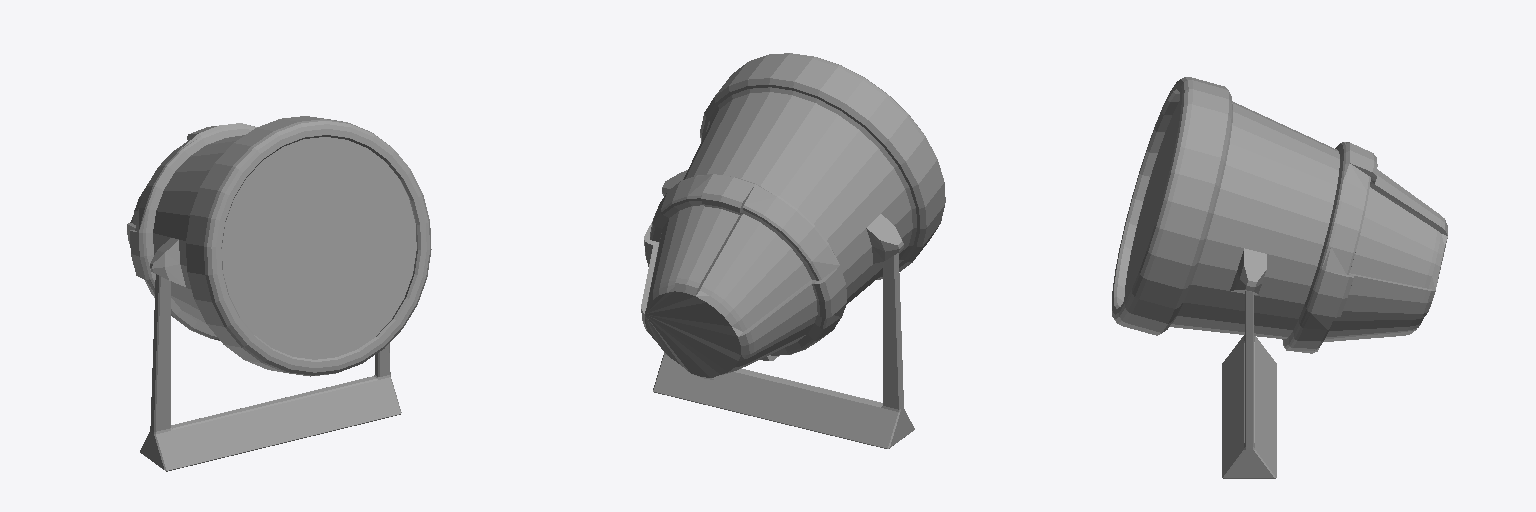
Rendered from stage_light.obj.
3 renders of one model, left to right at view 1: azimuth 30°, elevation 25°; view 2: azimuth 150°, elevation 25°; view 3: azimuth 270°, elevation 25°, orthographic.
Parts seen in each view (by area): view 1: stage_light_Untitled; view 2: stage_light_Untitled; view 3: stage_light_Untitled.
Part boxes in pixels (x1,y1,x2,y2): stage_light_Untitled: (127, 116, 431, 471); stage_light_Untitled: (641, 53, 945, 448); stage_light_Untitled: (1112, 77, 1447, 478).
Bounding box in the file's own units: 0.127 × 0.1682 × 0.1546.